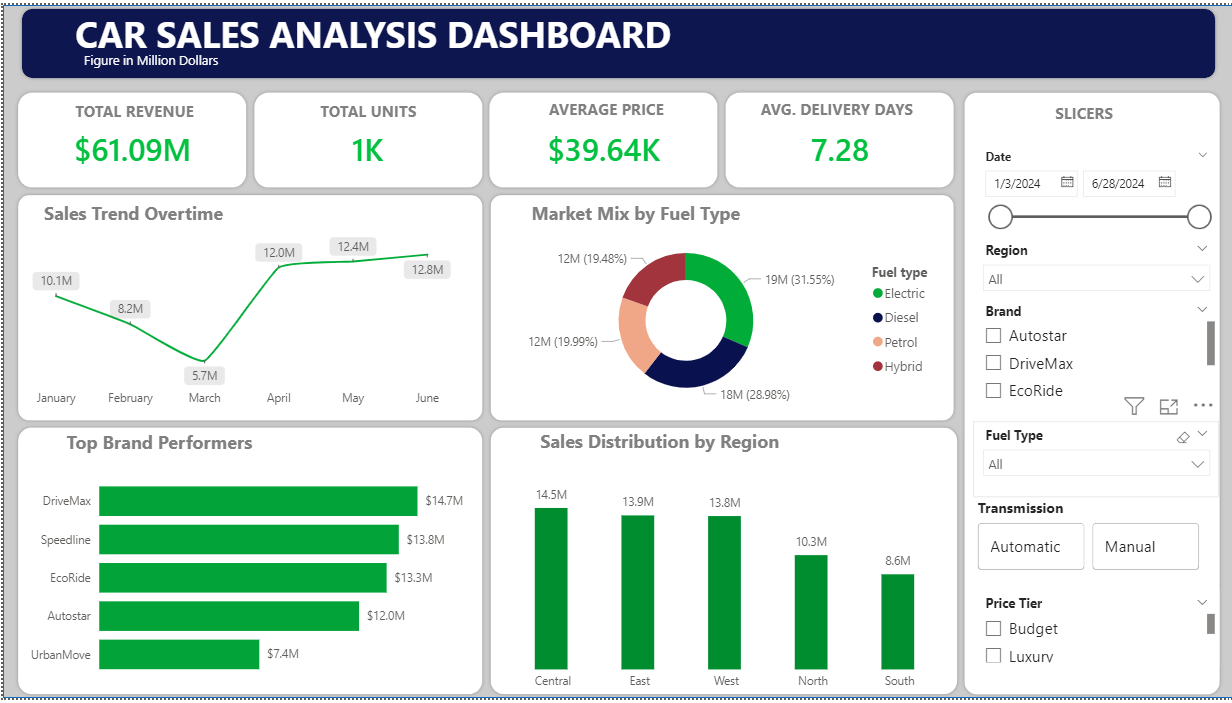

Layout of this report page (visuals, bound fields, positions):
{"tool":"powerbi","page":{"name":"Executive Overview","canvas":[1280,720],"ordinal":0},"visuals":[{"type":"shape","box":[0,0,1280,720],"z":0},{"type":"shape","box":[16,0,1248,80],"z":1000},{"type":"shape","box":[11.7,86.7,245,106.7],"z":2000},{"type":"shape","box":[256.7,86.7,245,106.7],"z":3000},{"type":"shape","box":[501.7,86.7,245,106.7],"z":4000},{"type":"shape","box":[746.7,86.7,245,106.7],"z":5000},{"type":"shape","box":[12.2,193.2,490.4,242.1],"z":6000},{"type":"shape","box":[502.6,193.2,489.1,242.1],"z":7000},{"type":"shape","box":[995,86.7,273.3,633.3],"z":8000},{"type":"shape","box":[12.2,435.3,490.4,284.9],"z":9000},{"type":"shape","box":[502.6,435.3,492.8,284.9],"z":10000},{"type":"textbox","box":[70,93,152,40],"z":11000},{"type":"textbox","box":[325,93,152,40],"z":12000},{"type":"textbox","box":[562.8,92.3,152.6,41],"z":13000},{"type":"textbox","box":[778.2,92.3,197.4,41],"z":14000},{"type":"cardVisual","fields":{"Data":["car_sales_data.Total Revenue"]},"box":[22,108.8,225,77],"z":15000},{"type":"cardVisual","fields":{"Data":["car_sales_data.Total Units"]},"box":[266.6,108.8,225,77],"z":16000},{"type":"cardVisual","fields":{"Data":["car_sales_data.Avg Price"]},"box":[511.1,108.8,225,77],"z":17000},{"type":"cardVisual","fields":{"Data":["car_sales_data.Avg Delivery Days"]},"box":[756.9,108.8,225,77],"z":18000},{"type":"lineChart","fields":{"Y":["Sum(car_sales_data.revenue)"],"Category":["car_sales_data.sale_date.Variation.Date Hierarchy.Month"]},"box":[19.6,227.4,457.3,199.3],"z":19000},{"type":"donutChart","fields":{"Category":["car_sales_data.fuel_type"],"Y":["Sum(car_sales_data.revenue)"]},"box":[511.1,232.3,472,190.8],"z":20000},{"type":"barChart","fields":{"Category":["car_sales_data.brand"],"Y":["Sum(car_sales_data.revenue)"]},"box":[18.3,470.8,479.4,240.9],"z":21000},{"type":"textbox","box":[37.9,199.3,264.1,40.4],"z":22000},{"type":"textbox","box":[69.7,0,687.2,66],"z":23000},{"type":"textbox","box":[544.2,199.3,264.1,40.4],"z":24000},{"type":"textbox","box":[552.7,435.3,264.1,40.4],"z":25000},{"type":"textbox","box":[61.1,436.6,264.1,40.4],"z":26000},{"type":"textbox","box":[79.5,42.8,199.3,34.2],"z":27000},{"type":"slicer","fields":{"Values":["car_sales_data.sale_date"]},"box":[1008,144,256,96],"z":28000},{"type":"slicer","fields":{"Values":["car_sales_data.region"]},"box":[1008,240,256,64],"z":29000},{"type":"slicer","fields":{"Values":["car_sales_data.brand"]},"box":[1008,304,256,112],"z":30000},{"type":"slicer","fields":{"Values":["car_sales_data.fuel_type"]},"box":[1008,432,256,80],"z":31000},{"type":"advancedSlicerVisual","title":"  Transmission","fields":{"Values":["car_sales_data.transmission"]},"box":[1008,512,240,80],"z":32000},{"type":"slicer","fields":{"Values":["car_sales_data.Price tier"]},"box":[1008,608,256,80],"z":33000},{"type":"textbox","box":[1088,96,144,32],"z":34000},{"type":"clusteredColumnChart","fields":{"Category":["car_sales_data.region"],"Y":["Sum(car_sales_data.revenue)"]},"box":[512,480,480,240],"z":35000}]}

Visuals, with their boxes in screenshot pixels (x1, y1, x2, y2), scaled from the page's 1280x720 canvas onto the 1232x703 screenshot:
shape: (left=0, top=0, right=1231, bottom=702)
shape: (left=15, top=0, right=1217, bottom=78)
shape: (left=11, top=85, right=247, bottom=189)
shape: (left=247, top=85, right=483, bottom=189)
shape: (left=483, top=85, right=719, bottom=189)
shape: (left=719, top=85, right=955, bottom=189)
shape: (left=12, top=189, right=484, bottom=425)
shape: (left=484, top=189, right=955, bottom=425)
shape: (left=958, top=85, right=1221, bottom=702)
shape: (left=12, top=425, right=484, bottom=702)
shape: (left=484, top=425, right=958, bottom=702)
textbox: (left=67, top=91, right=214, bottom=130)
textbox: (left=313, top=91, right=459, bottom=130)
textbox: (left=542, top=90, right=689, bottom=130)
textbox: (left=749, top=90, right=939, bottom=130)
cardVisual - car_sales_data.Total Revenue: (left=21, top=106, right=238, bottom=181)
cardVisual - car_sales_data.Total Units: (left=257, top=106, right=473, bottom=181)
cardVisual - car_sales_data.Avg Price: (left=492, top=106, right=708, bottom=181)
cardVisual - car_sales_data.Avg Delivery Days: (left=729, top=106, right=945, bottom=181)
lineChart - Sum(car_sales_data.revenue) x car_sales_data.sale_date.Variation.Date Hierarchy.Month: (left=19, top=222, right=459, bottom=417)
donutChart - car_sales_data.fuel_type x Sum(car_sales_data.revenue): (left=492, top=227, right=946, bottom=413)
barChart - car_sales_data.brand x Sum(car_sales_data.revenue): (left=18, top=460, right=479, bottom=695)
textbox: (left=36, top=195, right=291, bottom=234)
textbox: (left=67, top=0, right=729, bottom=64)
textbox: (left=524, top=195, right=778, bottom=234)
textbox: (left=532, top=425, right=786, bottom=464)
textbox: (left=59, top=426, right=313, bottom=466)
textbox: (left=77, top=42, right=268, bottom=75)
slicer - car_sales_data.sale_date: (left=970, top=141, right=1217, bottom=234)
slicer - car_sales_data.region: (left=970, top=234, right=1217, bottom=297)
slicer - car_sales_data.brand: (left=970, top=297, right=1217, bottom=406)
slicer - car_sales_data.fuel_type: (left=970, top=422, right=1217, bottom=500)
"  Transmission" advancedSlicerVisual: (left=970, top=500, right=1201, bottom=578)
slicer - car_sales_data.Price tier: (left=970, top=594, right=1217, bottom=672)
textbox: (left=1047, top=94, right=1186, bottom=125)
clusteredColumnChart - car_sales_data.region x Sum(car_sales_data.revenue): (left=493, top=469, right=955, bottom=702)
